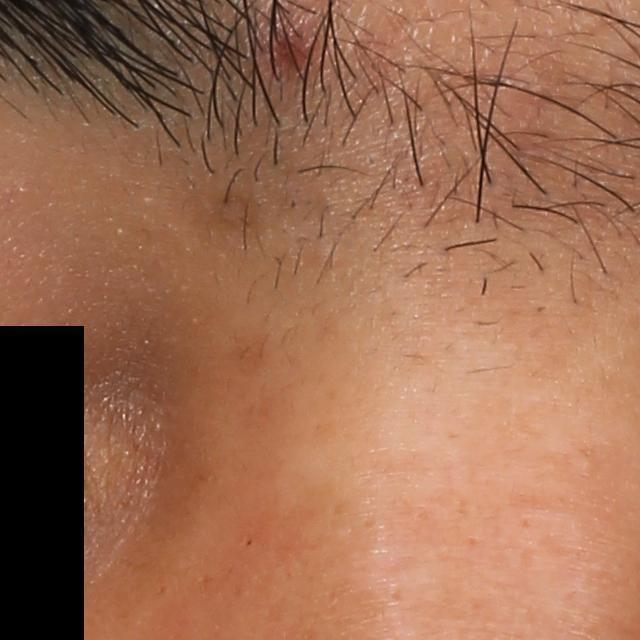papule: (271, 19, 307, 74)
